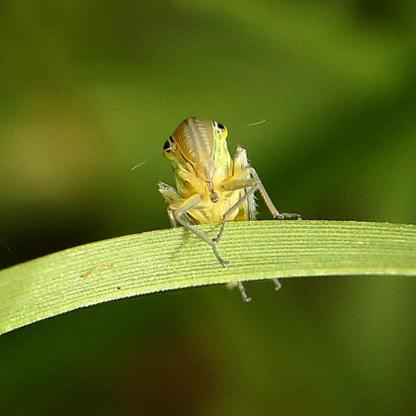Green-Leafhopper: (132, 112, 308, 308)
